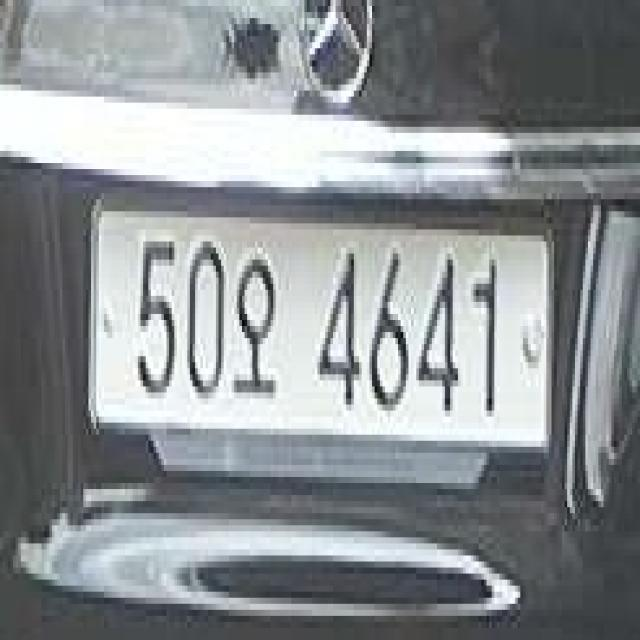0: (184, 225, 228, 415)
1: (467, 246, 508, 434)
4: (314, 238, 363, 421), (413, 240, 461, 412)
5: (132, 231, 178, 406)
6: (366, 238, 411, 422)
license_plate: (76, 185, 560, 470)
o: (228, 239, 284, 409)
